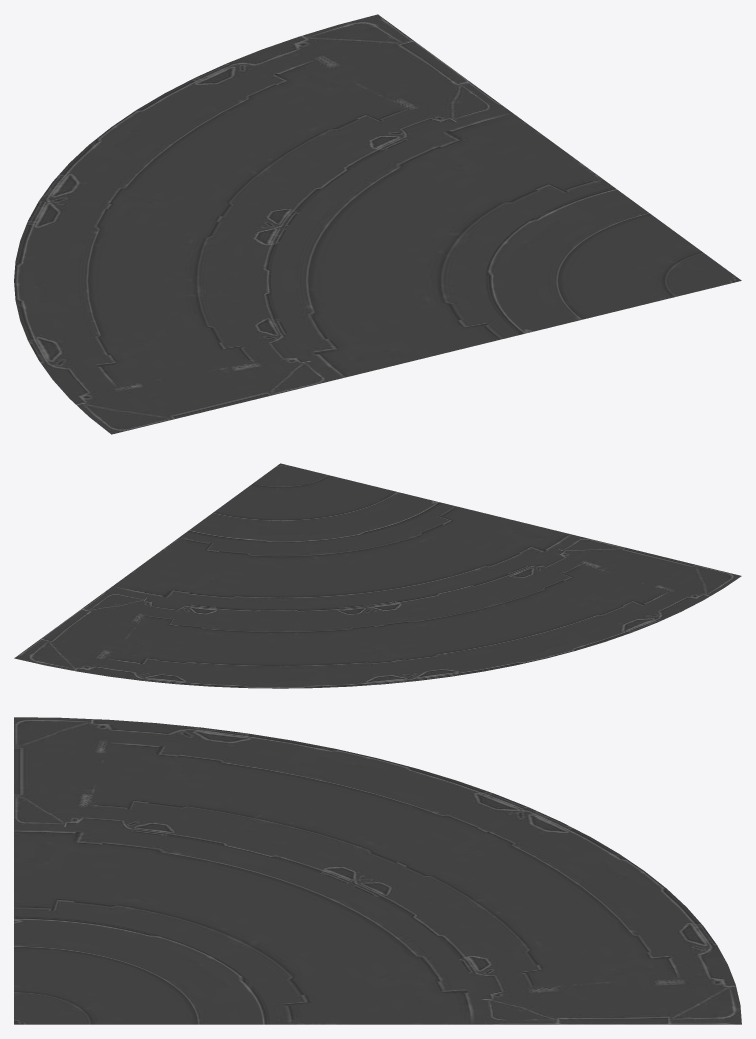
File: sf_floor_dark_curve.glb
3 renders of one model, top to bottom at view 1: azimuth 30°, elevation 25°; view 2: azimuth 150°, elevation 25°; view 3: azimuth 270°, elevation 25°, orthographic. The views are drawn at different scales.
Visible parts, largest first — view 1: Platform_DarkPlates_Curves; view 2: Platform_DarkPlates_Curves; view 3: Platform_DarkPlates_Curves.
Part boxes in pixels (x1=…): Platform_DarkPlates_Curves: x1=14, y1=14, x2=741, y2=434; Platform_DarkPlates_Curves: x1=14, y1=463, x2=741, y2=688; Platform_DarkPlates_Curves: x1=14, y1=717, x2=741, y2=1024.
Size of the model in its own units: 4 by 0 by 4.
1 material, 1 textured.
